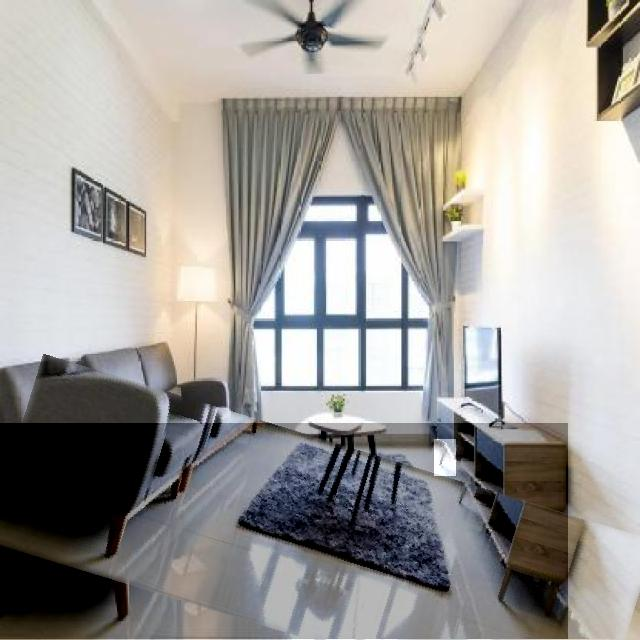floor: (0, 423, 568, 640), (434, 439, 456, 476)
